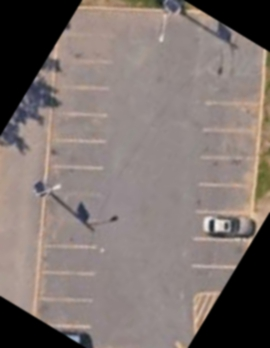parkingspot: (31, 4, 124, 348), (181, 97, 267, 298)
